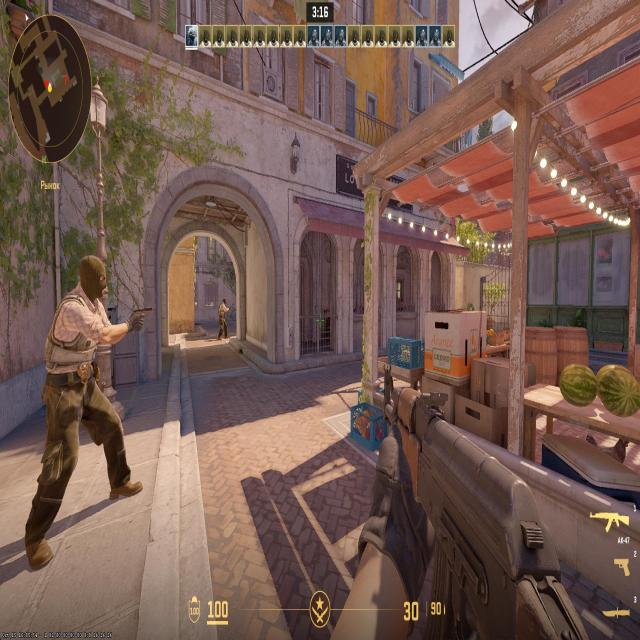T: (62, 261, 122, 494), (219, 299, 227, 340)
T_heat: (82, 262, 96, 288), (223, 300, 225, 305)
